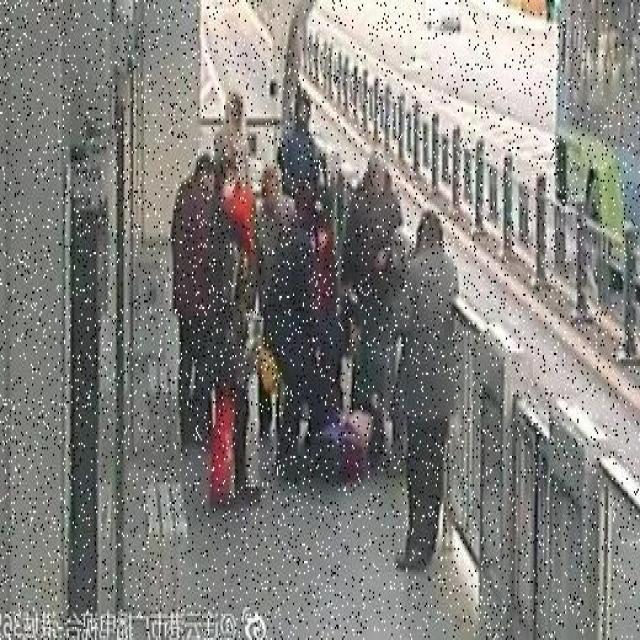fall: (289, 386, 395, 486)
